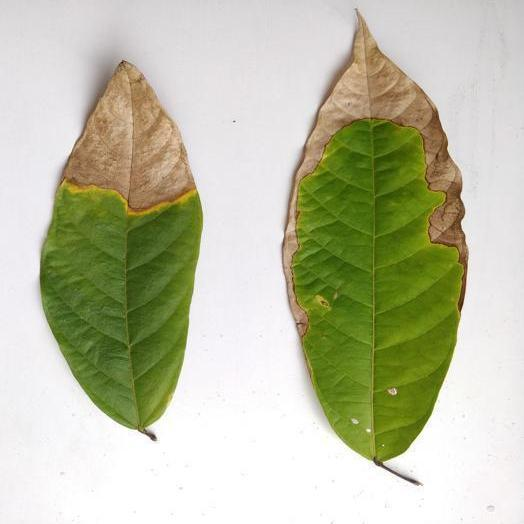Potassium: (285, 14, 466, 483), (41, 61, 202, 439)
